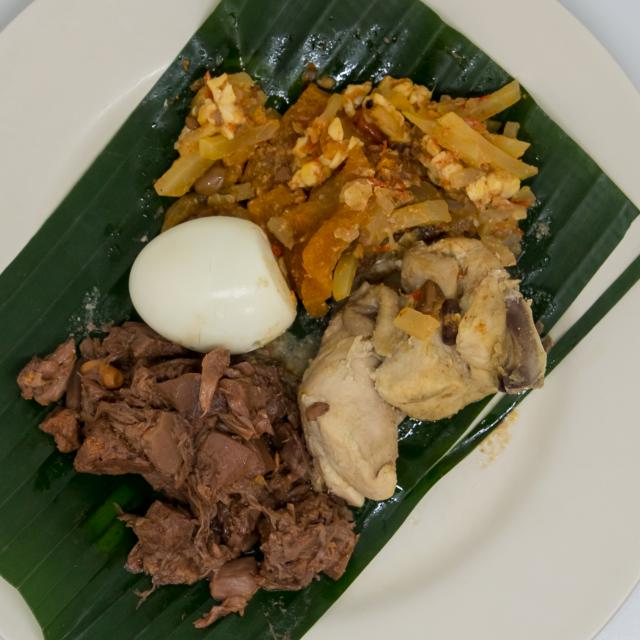Gudeg-Jogja: (20, 18, 566, 623)
